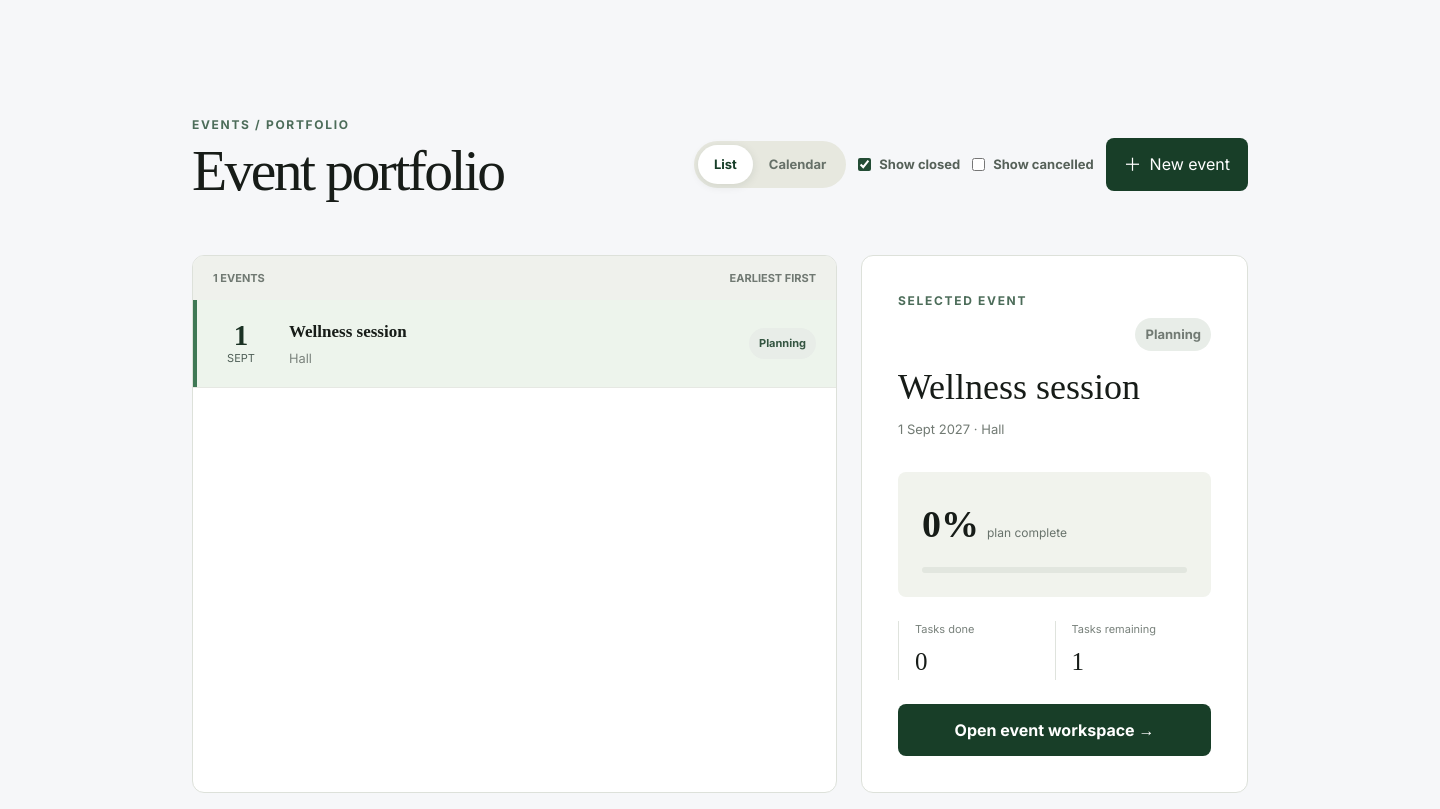
Scenario: API-backed organizer events › opens a Task directly in edit mode when its card is clicked
The width and height of the screenshot is (1440, 809).
Click the button "Open event workspace →": click(1054, 730) [898, 704, 1211, 756]
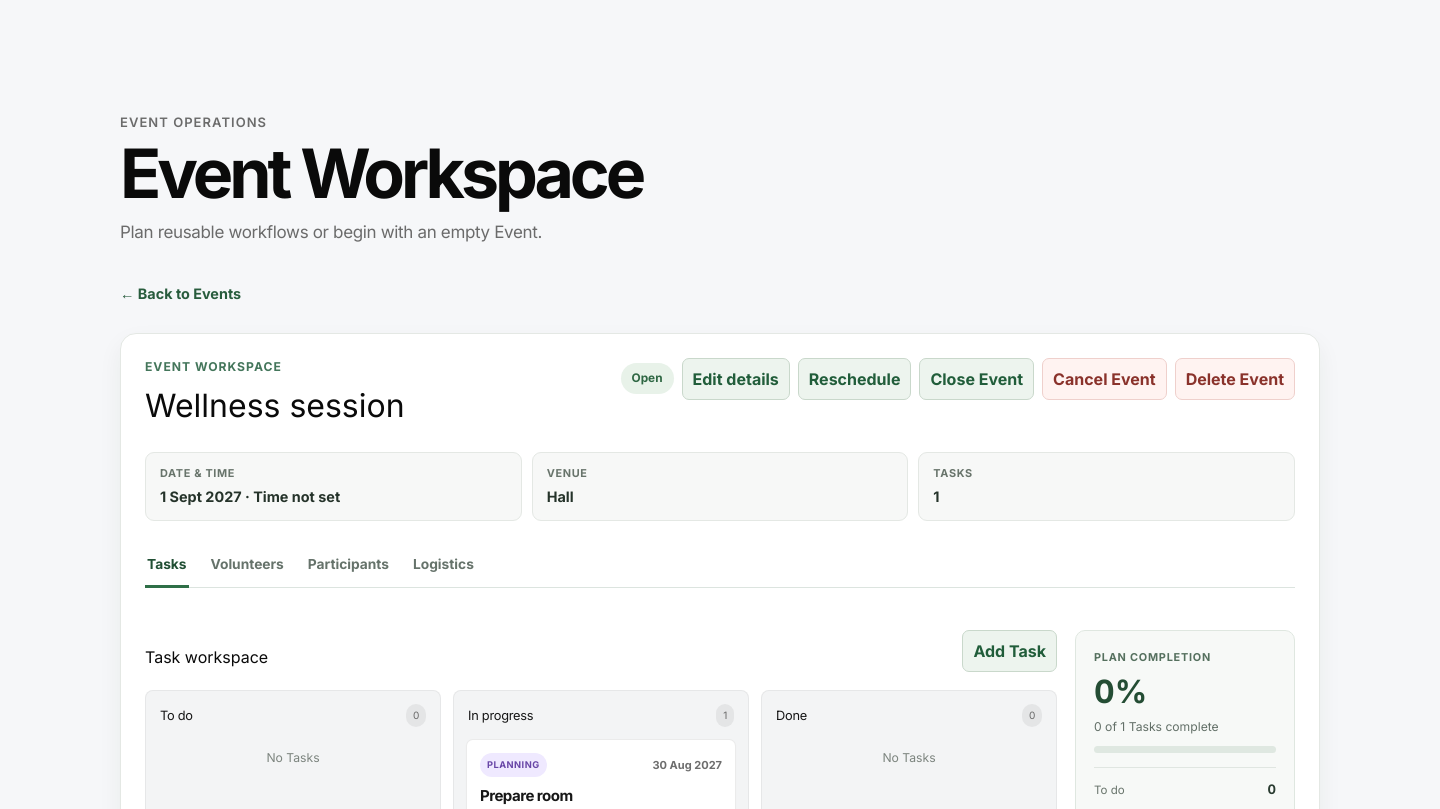
Click the text "Prepare room": click(526, 796) [480, 786, 573, 805]
(page scrolled)
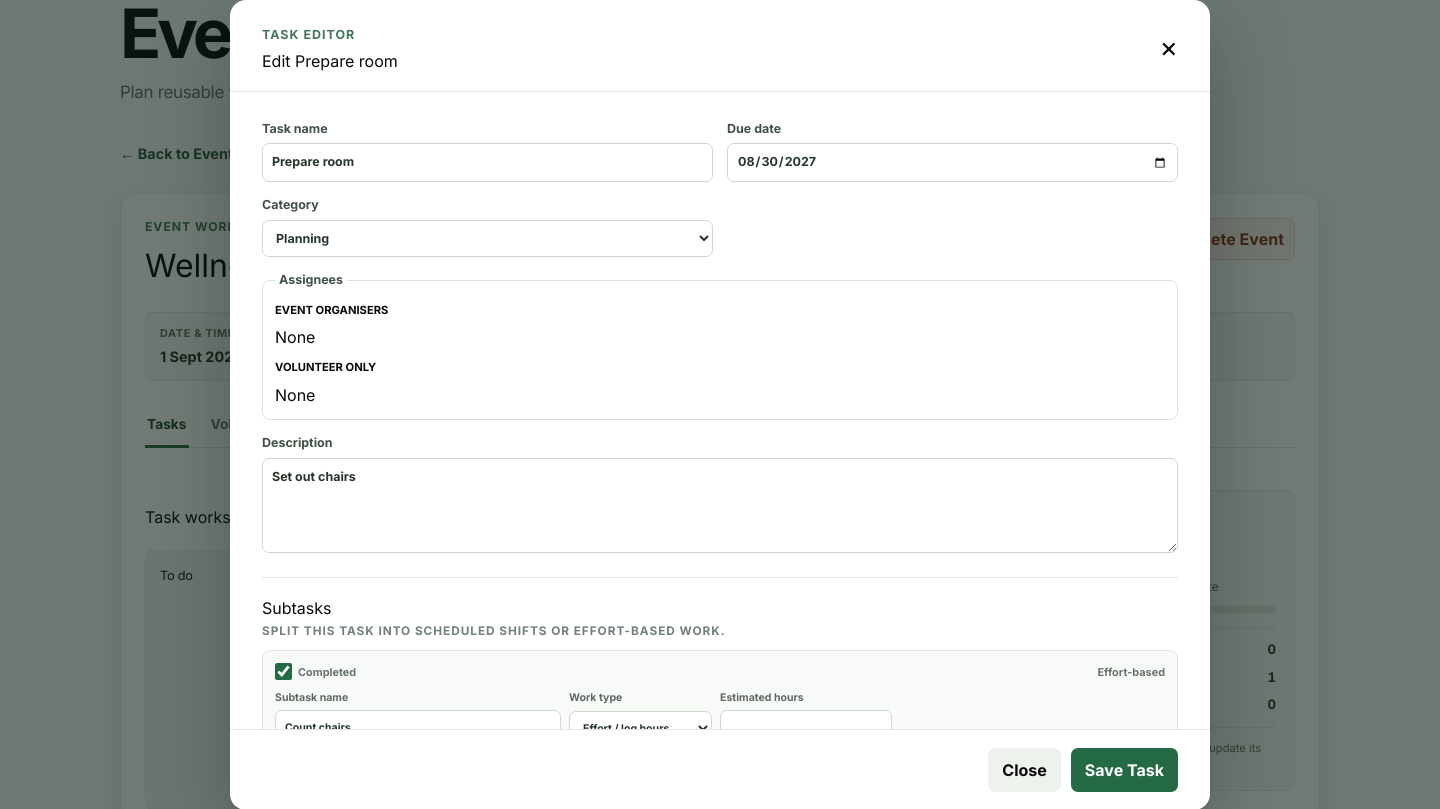
Now the text "Task editor" is shown, box [262, 27, 355, 42]
Now the checkbox named "Complete Count chairs" is enabled, box [275, 664, 292, 680]
Now the button "Save Task" is shown, box [1071, 748, 1178, 792]
